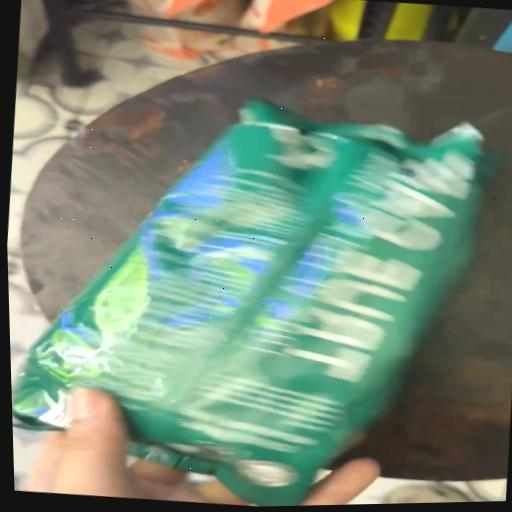cafe_xay: (13, 101, 487, 507)
